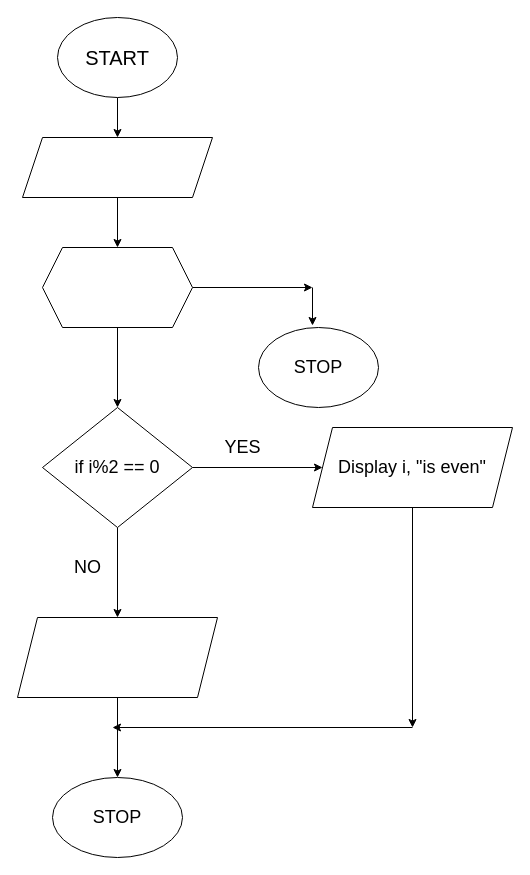
The diagram is 530 pixels wide and 875 high, and some of its shapes have lost their labels. Here are the shapes that lost their labels. From the top down, the box of each, then its label:
(22, 136, 212, 198): Read Numbers a, b
(42, 246, 192, 328): for i = a to b+1
(16, 616, 218, 698): Display i, "is odd"
